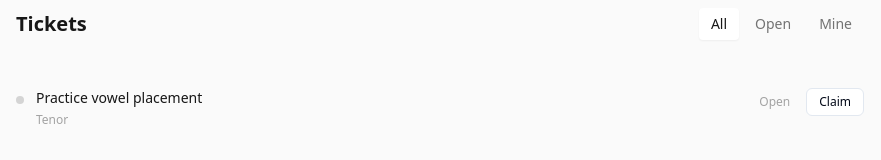
TicketsListPage › Claim Flow › successfully claims a ticket
Click the button "Claim" at {"x": 835, "y": 102}, box 806,88 -> 864,116
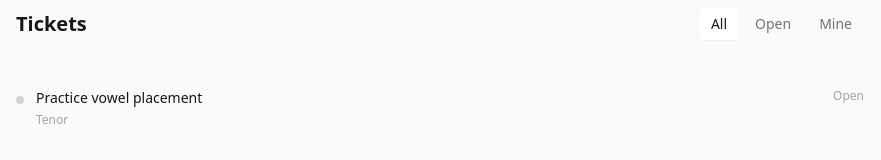
Expected: the button "Claim" is gone
